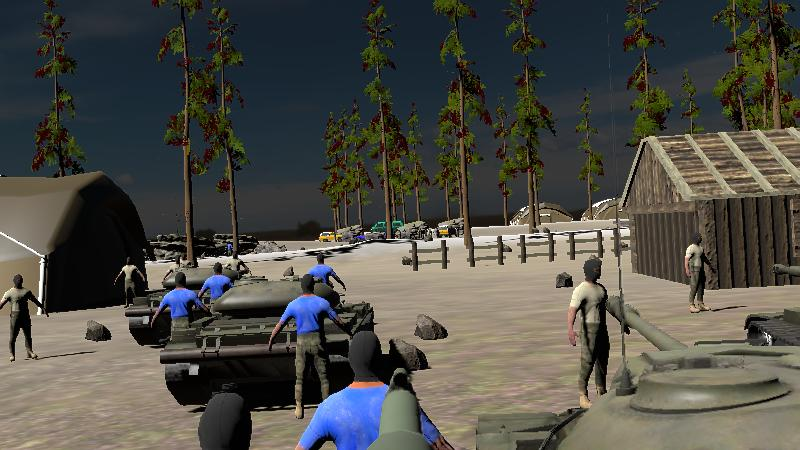House: (622, 128, 800, 288)
Human: (285, 331, 467, 450), (267, 273, 351, 421), (566, 252, 630, 410), (148, 271, 209, 351), (149, 271, 208, 353), (0, 274, 50, 363), (300, 252, 348, 326), (684, 229, 716, 314), (112, 254, 147, 310), (198, 262, 235, 308)
Tank: (160, 275, 358, 397), (123, 270, 223, 345), (743, 259, 800, 370)
car: (369, 220, 403, 239), (318, 230, 339, 243)
